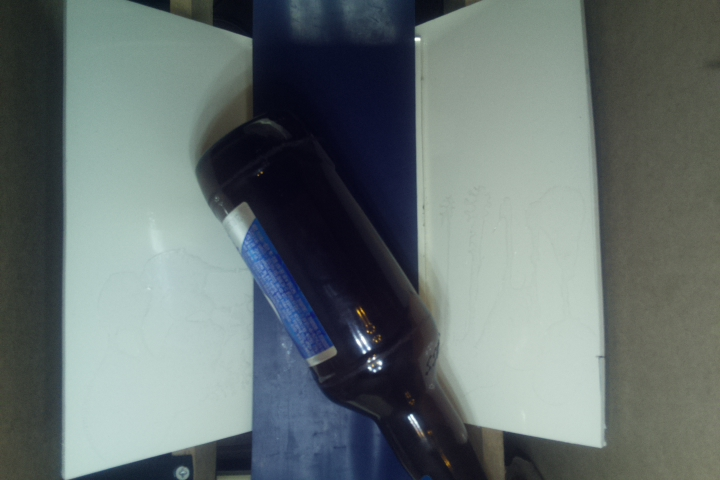makju: (195, 113, 487, 480)
